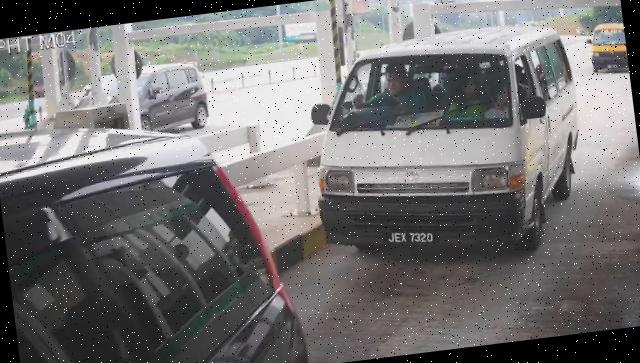License_Plate: (382, 223, 441, 254)
van: (300, 17, 595, 276)
